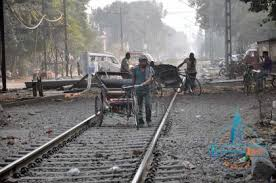crossing railway track: (113, 54, 159, 125), (174, 49, 205, 101), (115, 49, 140, 94)
